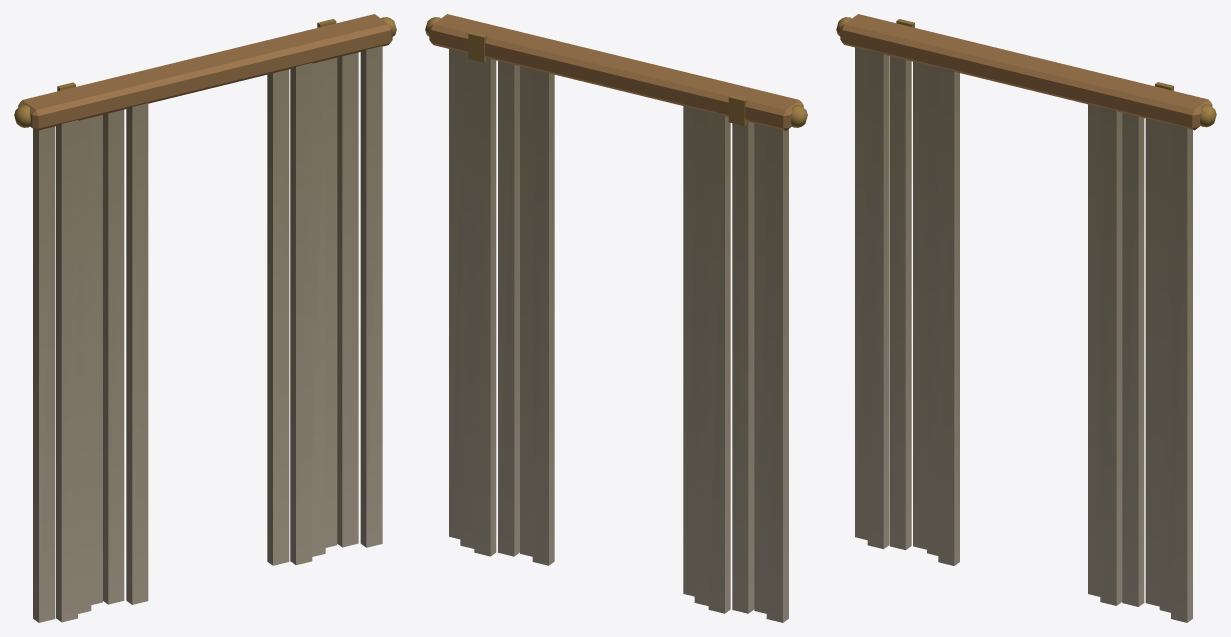
File: curtains.glb
3 views of the same model, side by side, from view 1: azimuth 30°, elevation 25°; view 2: azimuth 150°, elevation 25°; view 3: azimuth 330°, elevation 25° (orthographic).
Visible parts, largest first — view 1: curtains; view 2: curtains; view 3: curtains.
Part boxes in pixels (x1,y1,x2,y2): curtains: (14,14,396,622); curtains: (425,14,807,622); curtains: (836,14,1216,622).
Bounding box in the file's own units: 1.9 × 2.48 × 0.1676.
